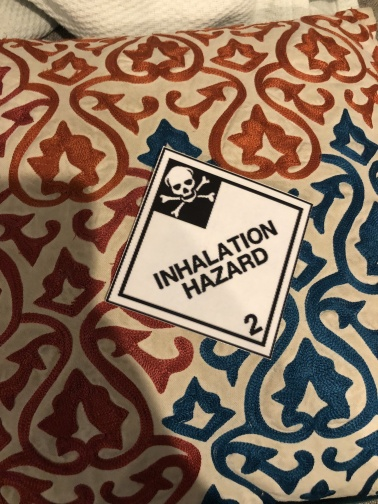InhalationHazard: (99, 146, 313, 361)
